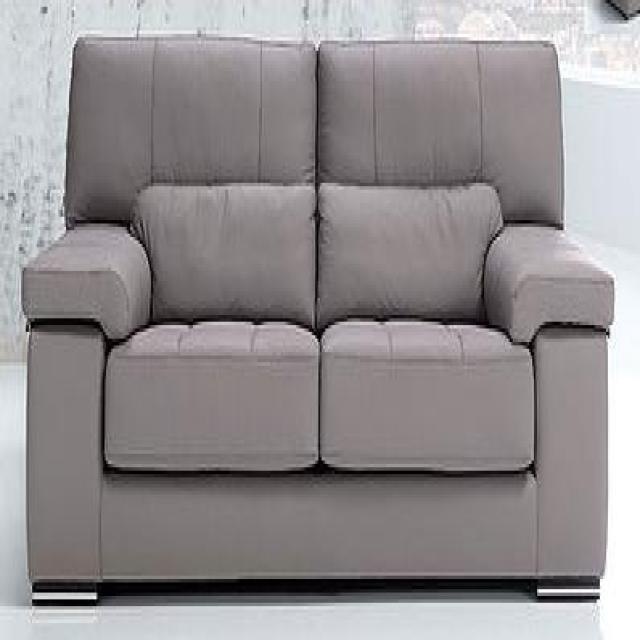sofa: (22, 35, 614, 602)
